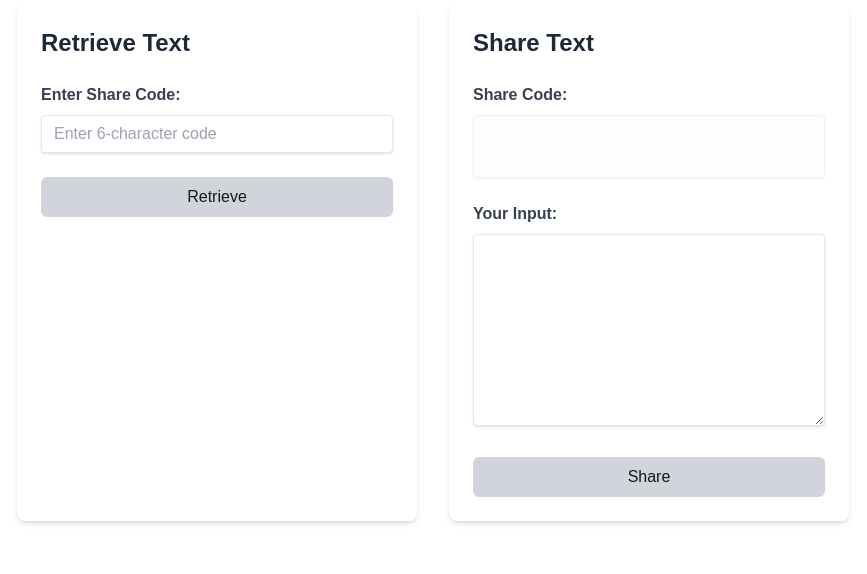
Scenario: Form Component › handles text retrieval
Type "abc123" into the field labelled "Enter Share Code:" at (217, 134), box [41,115,393,153]
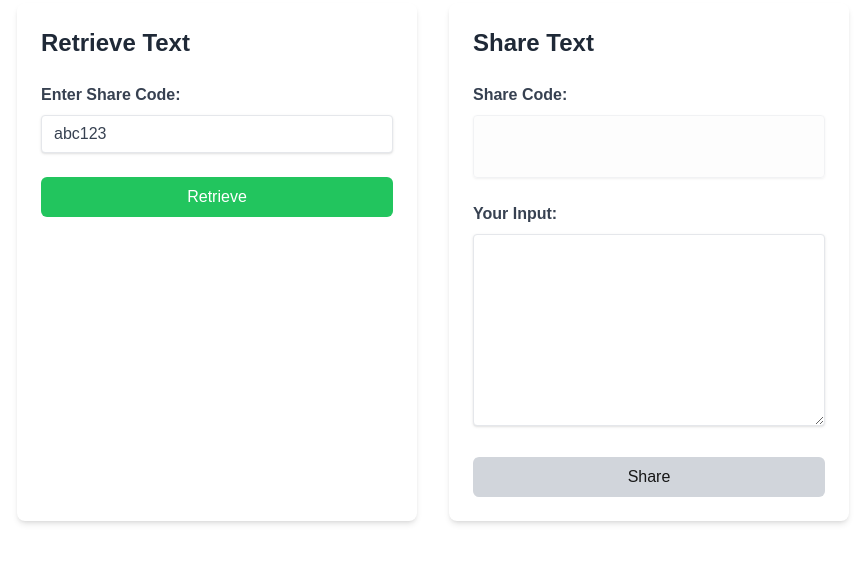
Click the button "Retrieve" at (217, 197), box [41,177,393,217]
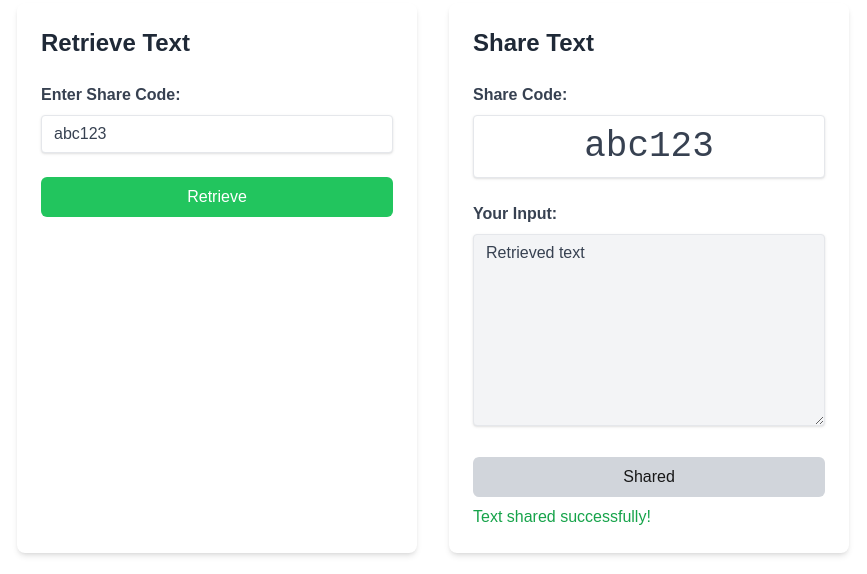
Now the text box "Retrieved text" is shown, box [473,234,825,426]
